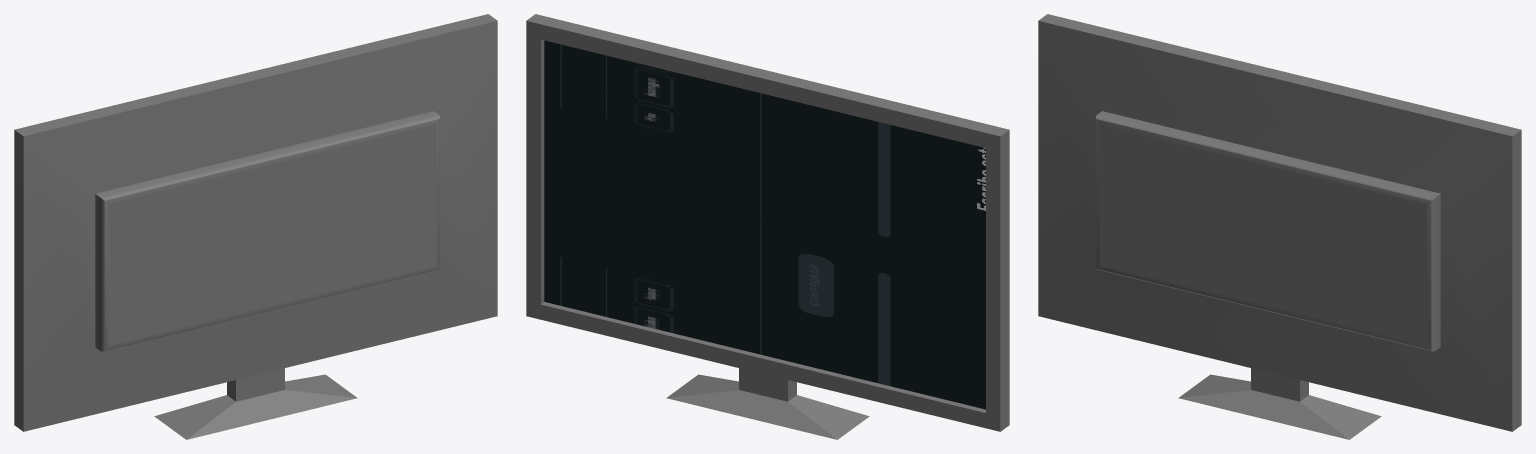
Rendered from pantalla_pc.fbx.
The picture shows the model from 3 angles, left to right: view 1: azimuth 30°, elevation 25°; view 2: azimuth 150°, elevation 25°; view 3: azimuth 330°, elevation 25°; orthographic projection.
Visible parts, largest first — view 1: pantalla_pc; view 2: pantalla_pc; view 3: pantalla_pc.
Boxes of the visible parts, x1,y1,x2,y2 form: pantalla_pc: (14, 14, 497, 439); pantalla_pc: (526, 14, 1009, 439); pantalla_pc: (1038, 14, 1521, 439).
Bounding box in the file's own units: 105 × 70.58 × 12.55.
Materials: 2 (2 with a texture image).
